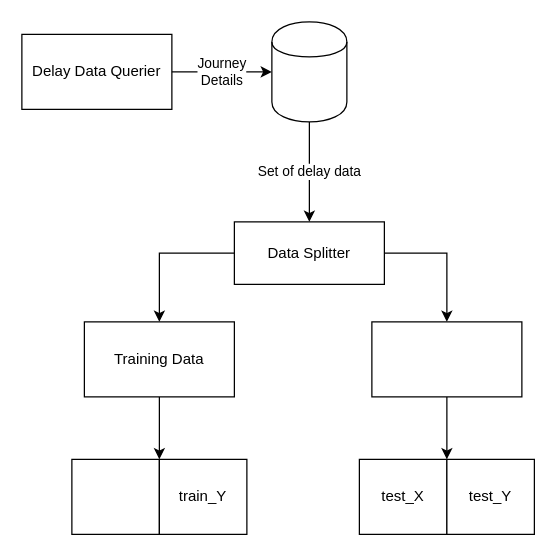
Some shapes in this 556 by 556 pixel diagram are drawn without their labels. Here are the shapes that lost their labels. From the top down, the centre of each, then its label:
At (309,71): "Delay Data DB".
At (446,359): "Test Data".
At (115,496): "train_X".
